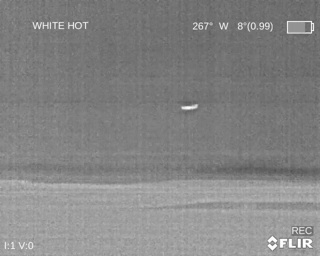AIRPLANE: (180, 103, 199, 111)
